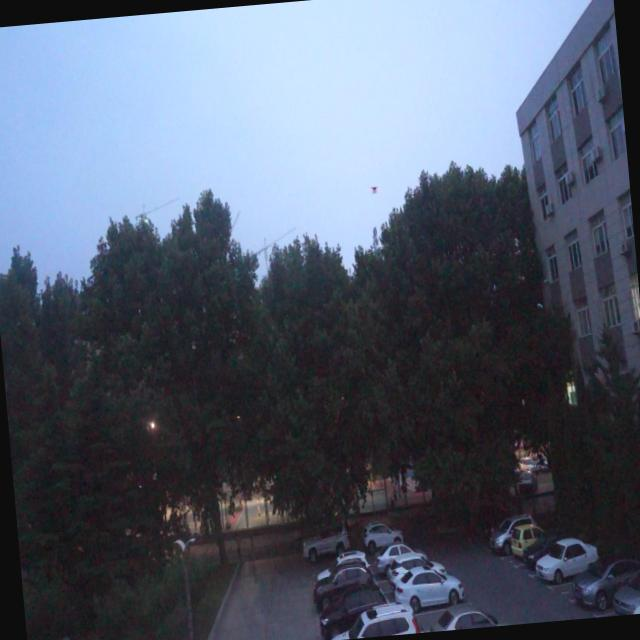drone: (368, 180, 381, 194)
